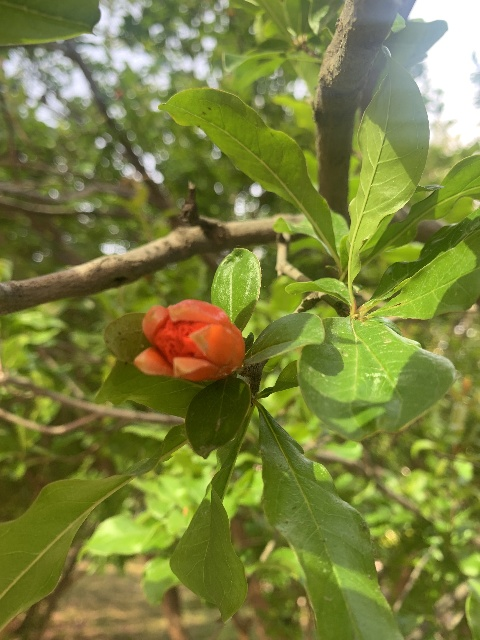flower: (136, 298, 243, 382)
